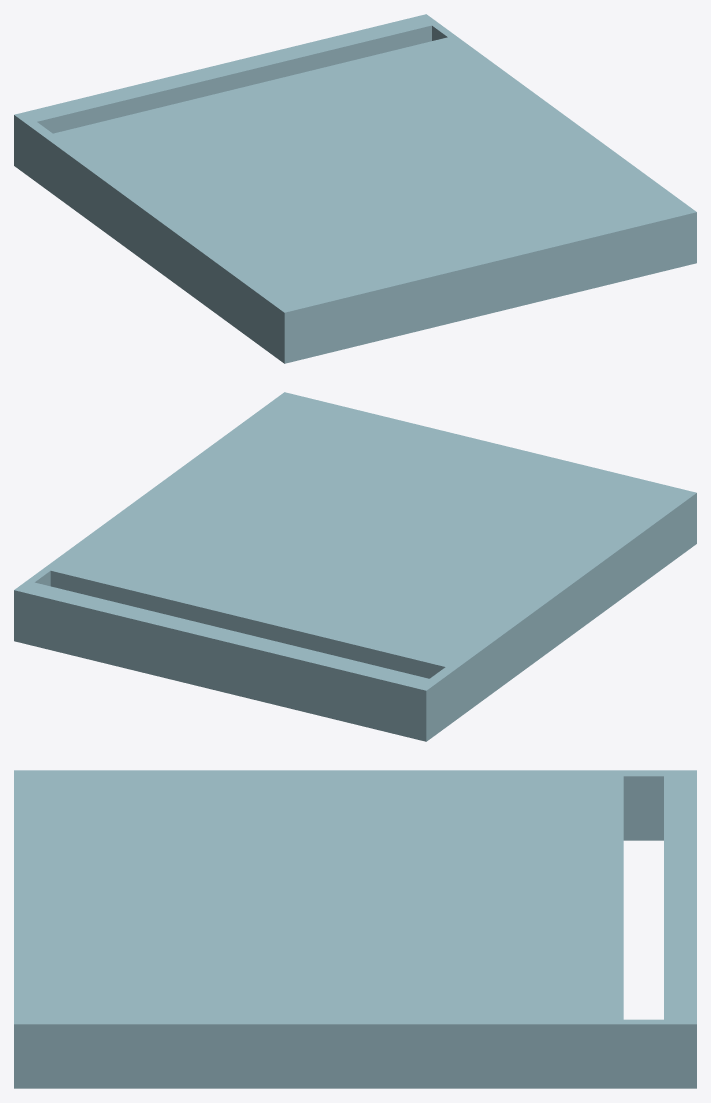
The model's file is pusher.glb.
3 renders of one model, top to bottom at view 1: azimuth 30°, elevation 25°; view 2: azimuth 150°, elevation 25°; view 3: azimuth 270°, elevation 25°, orthographic. The views are drawn at different scales.
Visible parts, largest first — view 1: Mesh_Mesh_head_geo.001_lambert2SG.001; view 2: Mesh_Mesh_head_geo.001_lambert2SG.001; view 3: Mesh_Mesh_head_geo.001_lambert2SG.001.
Boxes of the visible parts, x1,y1,x2,y2 form: Mesh_Mesh_head_geo.001_lambert2SG.001: (14,14,696,363); Mesh_Mesh_head_geo.001_lambert2SG.001: (14,392,696,741); Mesh_Mesh_head_geo.001_lambert2SG.001: (14,770,696,1088).
Size of the model in its own units: 0.0422 by 0.005 by 0.048.
